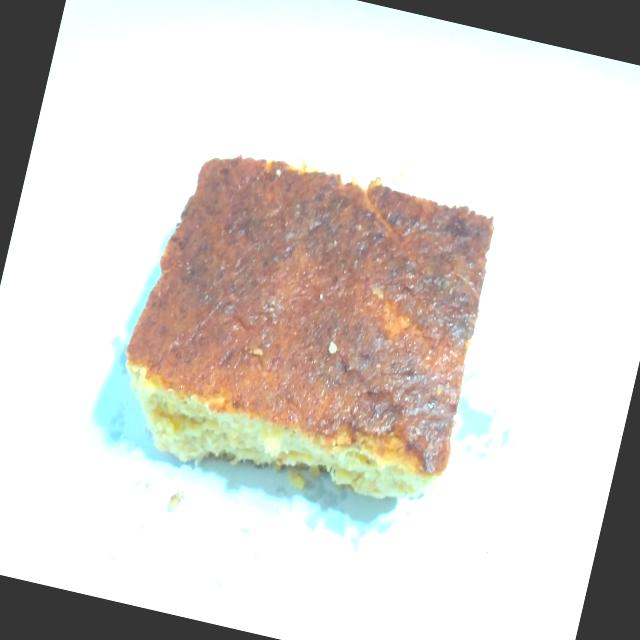Chipa_Guazu: (97, 110, 520, 546)
